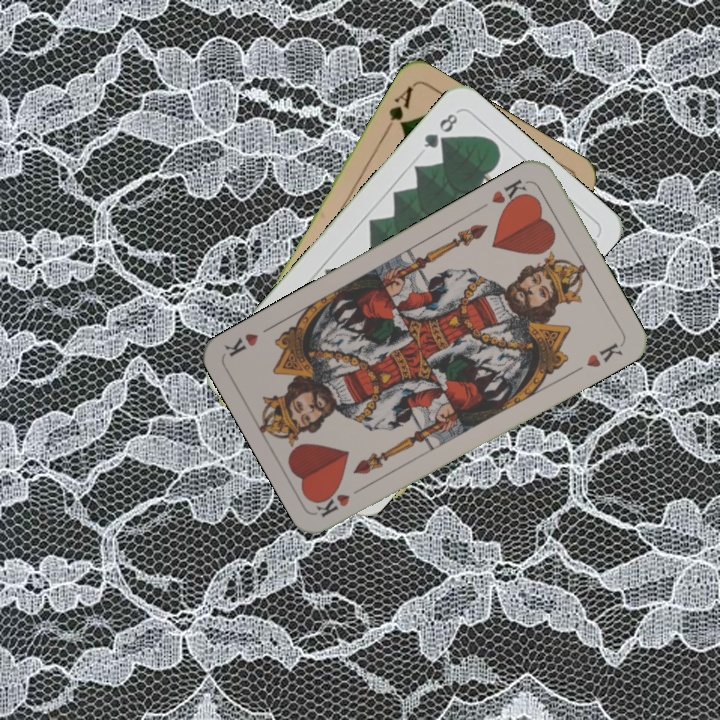G8: (419, 109, 460, 151)
GA: (380, 82, 416, 136)
HK: (313, 481, 370, 520), (487, 175, 532, 212)
